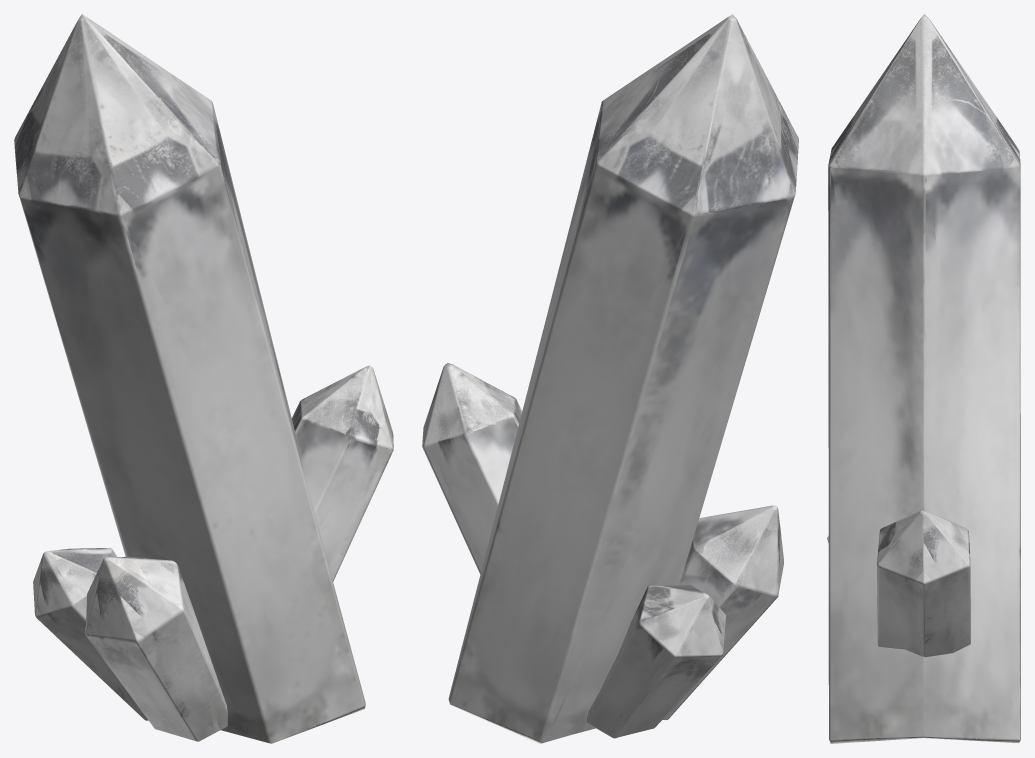
File: crystal-spire.glb
3 renders of one model, left to right at view 1: azimuth 30°, elevation 25°; view 2: azimuth 150°, elevation 25°; view 3: azimuth 270°, elevation 25°, orthographic. The views are drawn at different scales.
Size of the model in its own units: 0.5352 by 1 by 0.2724.
1 material, 1 textured.
